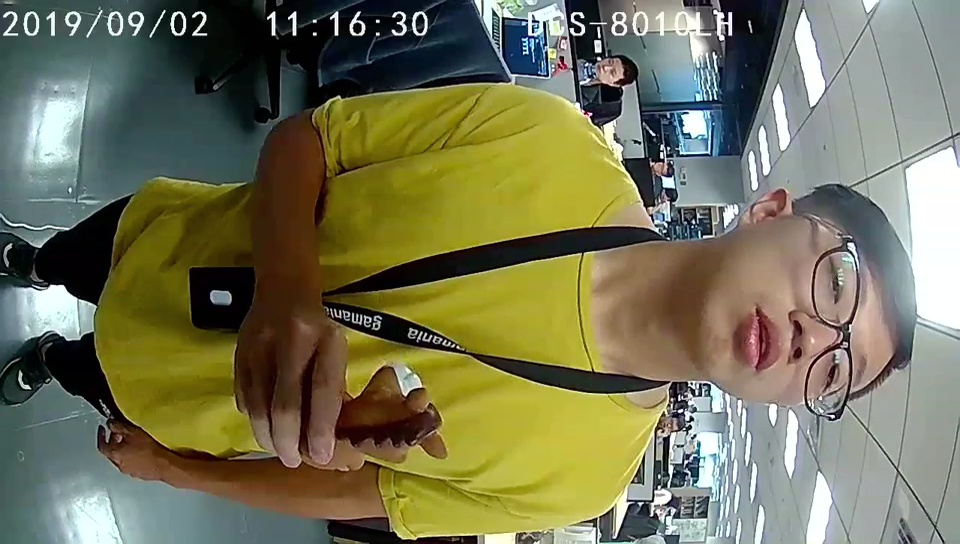horse: (341, 361, 448, 470)
